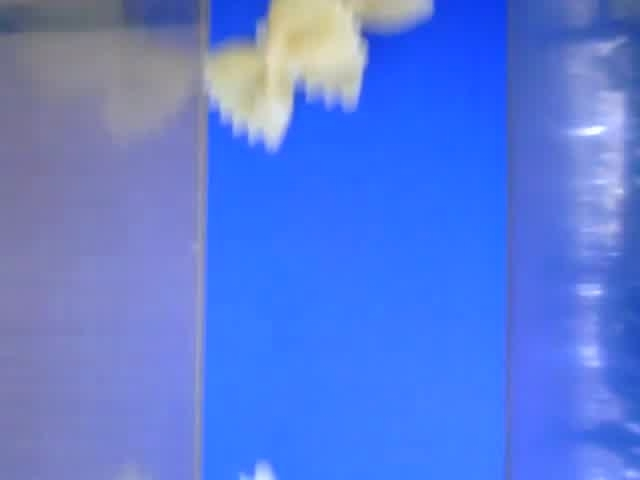farfalle: (204, 1, 361, 150)
